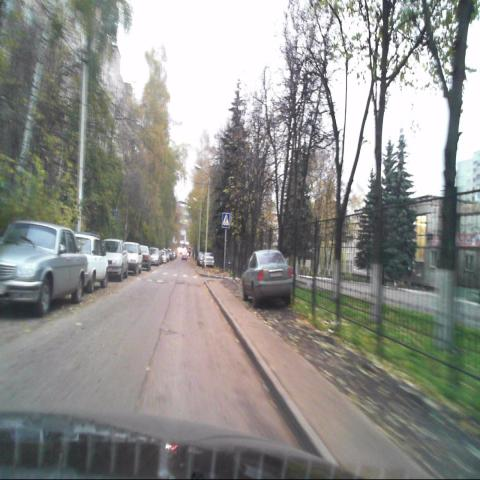5_19_1: (222, 213, 230, 228)
